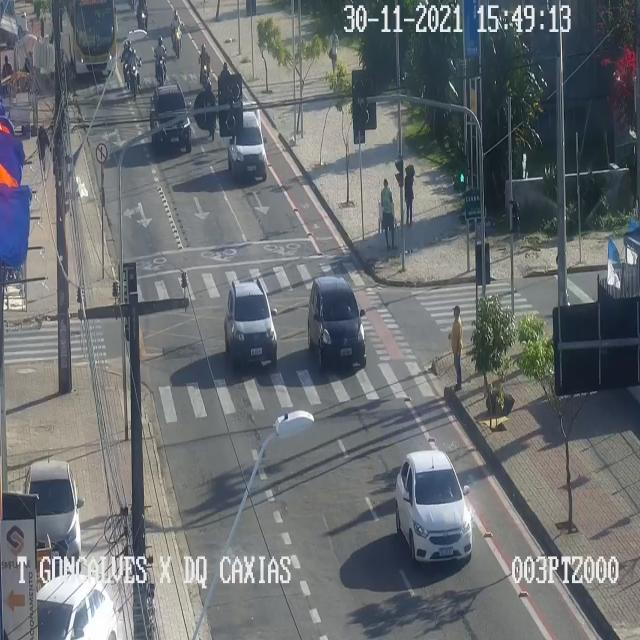Bus: (58, 0, 116, 95)
Car: (395, 450, 471, 560), (24, 460, 80, 570), (307, 276, 365, 366), (36, 574, 116, 639), (224, 281, 276, 364), (227, 100, 267, 178), (150, 85, 190, 151)
Motorcycle: (134, 0, 158, 38), (127, 46, 141, 99), (205, 82, 216, 140), (171, 9, 183, 58), (154, 36, 166, 84), (120, 41, 132, 88), (198, 43, 210, 89)
